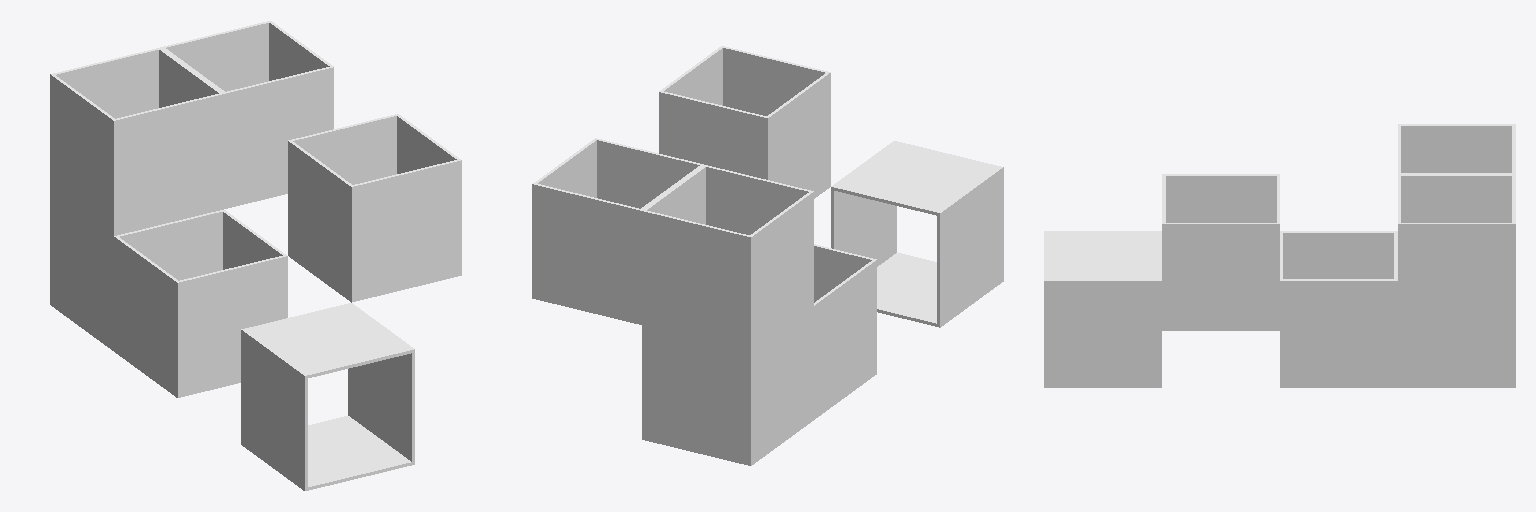
The robot description file, URDF, robot "eight_hollow_cubes":
<?xml version="1.0" encoding="utf-8"?>
<!-- This URDF was automatically created by SolidWorks to URDF Exporter! Originally created by [author] ([email redacted])
     Commit Version: 1.5.1-0-g916b5db  Build Version: 1.5.7152.31018
     For more information, please see http://wiki.ros.org/sw_urdf_exporter -->
<robot
  name="eight_hollow_cubes">
  <link
    name="cube1">
    <inertial>
      <origin
        xyz="0 0 0"
        rpy="0 0 0" />
      <mass
        value="0.1" />
      <inertia
        ixx="6.023E-05"
        ixy="0"
        ixz="0"
        iyy="7.88E-05"
        iyz="0"
        izz="6.023E-05" />
    </inertial>
    <visual>
      <origin
        xyz="0 0 0"
        rpy="0 0 0" />
      <geometry>
        <mesh
          filename="package://eight_hollow_cubes/meshes/cube1.STL" />
      </geometry>
      <material
        name="">
        <color
          rgba="1 1 1 1" />
      </material>
    </visual>
    <collision>
      <origin
        xyz="0 0 0"
        rpy="0 0 0" />
      <geometry>
        <mesh
          filename="package://eight_hollow_cubes/meshes/cube1.STL" />
      </geometry>
    </collision>
  </link>

  <link
    name="cube2">
    <inertial>
      <origin
        xyz="0 0 0"
        rpy="0 0 0" />
      <mass
        value="0.1" />
      <inertia
        ixx="6.023E-05"
        ixy="0"
        ixz="0"
        iyy="7.88E-05"
        iyz="0"
        izz="6.023E-05" />
    </inertial>
    <visual>
      <origin
        xyz="0 0 0"
        rpy="0 0 0" />
      <geometry>
        <mesh
          filename="package://eight_hollow_cubes/meshes/cube2.STL" />
      </geometry>
      <material
        name="">
        <color
          rgba="1 1 1 1" />
      </material>
    </visual>
    <collision>
      <origin
        xyz="0 0 0"
        rpy="0 0 0" />
      <geometry>
        <mesh
          filename="package://eight_hollow_cubes/meshes/cube2.STL" />
      </geometry>
    </collision>
  </link>

  <joint
    name="joint1"
    type="revolute">
    <origin
      xyz="0.025 0.025 0.025"
      rpy="1.5708 0 0" />
    <parent
      link="cube1" />
    <child
      link="cube2" />
    <axis
      xyz="0 0 1" />
    <limit
      lower="-3.1416"
      upper="0"
      effort="0"
      velocity="0" />
  </joint>

  <link
    name="cube3">
    <inertial>
      <origin
        xyz="-0.025 -0.025 -0.025"
        rpy="0 0 0" />
      <mass
        value="0.1" />
      <inertia
        ixx="6.023E-05"
        ixy="0"
        ixz="0"
        iyy="7.88E-05"
        iyz="0"
        izz="6.023E-05" />
    </inertial>
    <visual>
      <origin
        xyz="0 0 0"
        rpy="0 0 0" />
      <geometry>
        <mesh
          filename="package://eight_hollow_cubes/meshes/cube3.STL" />
      </geometry>
      <material
        name="">
        <color
          rgba="1 1 1 1" />
      </material>
    </visual>
    <collision>
      <origin
        xyz="0 0 0"
        rpy="0 0 0" />
      <geometry>
        <mesh
          filename="package://eight_hollow_cubes/meshes/cube3.STL" />
      </geometry>
    </collision>
  </link>

  <joint
    name="joint2"
    type="revolute">
    <origin
      xyz="0.05 0 0"
      rpy="0 0 0" />
    <parent
      link="cube2" />
    <child
      link="cube3" />
    <axis
      xyz="0 1 0" />
    <limit
      lower="0"
      upper="3.1416"
      effort="0"
      velocity="0" />
  </joint>

  <link
    name="cube4">
    <inertial>
      <origin
        xyz="-0.025 -0.025 -0.025"
        rpy="0 0 0" />
      <mass
        value="0.1" />
      <inertia
        ixx="6.023E-05"
        ixy="0"
        ixz="0"
        iyy="7.88E-05"
        iyz="0"
        izz="6.023E-05" />
    </inertial>
    <visual>
      <origin
        xyz="0 0 0"
        rpy="0 0 0" />
      <geometry>
        <mesh
          filename="package://eight_hollow_cubes/meshes/cube4.STL" />
      </geometry>
      <material
        name="">
        <color
          rgba="1 1 1 1" />
      </material>
    </visual>
    <collision>
      <origin
        xyz="0 0 0"
        rpy="0 0 0" />
      <geometry>
        <mesh
          filename="package://eight_hollow_cubes/meshes/cube4.STL" />
      </geometry>
    </collision>
  </link>

  <joint
    name="joint3"
    type="revolute">
    <origin
      xyz="0 0 -0.0500000000000001"
      rpy="0 0 0" />
    <parent
      link="cube3" />
    <child
      link="cube4" />
    <axis
      xyz="1 0 0" />
    <limit
      lower="0"
      upper="3.1416"
      effort="0"
      velocity="0" />
  </joint>

  <link
    name="cube5">
    <inertial>
      <origin
        xyz="-0.025 -0.025 -0.025"
        rpy="0 0 0" />
      <mass
        value="0.1" />
      <inertia
        ixx="6.023E-05"
        ixy="0"
        ixz="0"
        iyy="7.88E-05"
        iyz="0"
        izz="6.023E-05" />
    </inertial>
    <visual>
      <origin
        xyz="0 0 0"
        rpy="0 0 0" />
      <geometry>
        <mesh
          filename="package://eight_hollow_cubes/meshes/cube5.STL" />
      </geometry>
      <material
        name="">
        <color
          rgba="1 1 1 1" />
      </material>
    </visual>
    <collision>
      <origin
        xyz="0 0 0"
        rpy="0 0 0" />
      <geometry>
        <mesh
          filename="package://eight_hollow_cubes/meshes/cube5.STL" />
      </geometry>
    </collision>
  </link>

  <joint
    name="joint4"
    type="revolute">
    <origin
      xyz="0 0 -0.05"
      rpy="0 0 0" />
    <parent
      link="cube4" />
    <child
      link="cube5" />
    <axis
      xyz="0 1 0" />
    <limit
      lower="0"
      upper="3.1416"
      effort="0"
      velocity="0" />
  </joint>

  <link
    name="cube6">
    <inertial>
      <origin
        xyz="-0.025 -0.025 -0.025"
        rpy="0 0 0" />
      <mass
        value="0.1" />
      <inertia
        ixx="6.023E-05"
        ixy="0"
        ixz="0"
        iyy="7.88E-05"
        iyz="0"
        izz="6.023E-05" />
    </inertial>
    <visual>
      <origin
        xyz="0 0 0"
        rpy="0 0 0" />
      <geometry>
        <mesh
          filename="package://eight_hollow_cubes/meshes/cube6.STL" />
      </geometry>
      <material
        name="">
        <color
          rgba="1 1 1 1" />
      </material>
    </visual>
    <collision>
      <origin
        xyz="0 0 0"
        rpy="0 0 0" />
      <geometry>
        <mesh
          filename="package://eight_hollow_cubes/meshes/cube6.STL" />
      </geometry>
    </collision>
  </link>

  <joint
    name="joint5"
    type="revolute">
    <origin
      xyz="-0.05 0 0"
      rpy="0 0 0" />
    <parent
      link="cube5" />
    <child
      link="cube6" />
    <axis
      xyz="0 0 1" />
    <limit
      lower="-3.1416"
      upper="0"
      effort="0"
      velocity="0" />
  </joint>

  <link
    name="cube7">
    <inertial>
      <origin
        xyz="0.025 -0.025 0.025"
        rpy="0 0 0" />
      <mass
        value="0.1" />
      <inertia
        ixx="6.023E-05"
        ixy="0"
        ixz="0"
        iyy="7.88E-05"
        iyz="0"
        izz="6.023E-05" />
    </inertial>
    <visual>
      <origin
        xyz="0 0 0"
        rpy="0 0 0" />
      <geometry>
        <mesh
          filename="package://eight_hollow_cubes/meshes/cube7.STL" />
      </geometry>
      <material
        name="">
        <color
          rgba="1 1 1 1" />
      </material>
    </visual>
    <collision>
      <origin
        xyz="0 0 0"
        rpy="0 0 0" />
      <geometry>
        <mesh
          filename="package://eight_hollow_cubes/meshes/cube7.STL" />
      </geometry>
    </collision>
  </link>

  <joint
    name="joint6"
    type="revolute">
    <origin
      xyz="-0.05 0 0"
      rpy="0 0 0" />
    <parent
      link="cube6" />
    <child
      link="cube7" />
    <axis
      xyz="0 1 0" />
    <limit
      lower="-3.1416"
      upper="0"
      effort="0"
      velocity="0" />
  </joint>

  <link
    name="cube8">
    <inertial>
      <origin
        xyz="0.025 -0.025 0.025"
        rpy="0 0 0" />
      <mass
        value="0.1" />
      <inertia
        ixx="6.023E-05"
        ixy="0"
        ixz="0"
        iyy="7.88E-05"
        iyz="0"
        izz="6.023E-05" />
    </inertial>
    <visual>
      <origin
        xyz="0 0 0"
        rpy="0 0 0" />
      <geometry>
        <mesh
          filename="package://eight_hollow_cubes/meshes/cube8.STL" />
      </geometry>
      <material
        name="">
        <color
          rgba="1 1 1 1" />
      </material>
    </visual>
    <collision>
      <origin
        xyz="0 0 0"
        rpy="0 0 0" />
      <geometry>
        <mesh
          filename="package://eight_hollow_cubes/meshes/cube8.STL" />
      </geometry>
    </collision>
  </link>

  <joint
    name="joint7"
    type="revolute">
    <origin
      xyz="0 0 0.05"
      rpy="0 0 0" />
    <parent
      link="cube7" />
    <child
      link="cube8" />
    <axis
      xyz="1 0 0" />
    <limit
      lower="0"
      upper="3.1416"
      effort="0"
      velocity="0" />
  </joint>
</robot>

--- Render facts (derived) ---
3 views of the same robot in one strip: view 1: azimuth 30°, elevation 25°; view 2: azimuth 150°, elevation 25°; view 3: azimuth 270°, elevation 25° (orthographic).
Robot: eight_hollow_cubes — 8 links, 7 joints (7 revolute); root link cube1; default pose: every joint at zero.
Links seen in each view (by area): view 1: cube2, cube6, cube1, cube8, cube5, cube7; view 2: cube6, cube1, cube7, cube5, cube2, cube8; view 3: cube1, cube2, cube5, cube8, cube7, cube6.
Boxes of the visible links, x1,y1,x2,y2 form: cube2: [288, 114, 461, 302]; cube6: [50, 47, 223, 235]; cube1: [241, 303, 414, 490]; cube8: [114, 210, 287, 397]; cube5: [161, 21, 333, 208]; cube7: [50, 190, 113, 350]; cube6: [642, 165, 813, 351]; cube1: [831, 141, 1003, 327]; cube7: [642, 306, 813, 465]; cube5: [532, 138, 703, 324]; cube2: [659, 46, 830, 198]; cube8: [814, 244, 876, 419]; cube1: [1044, 231, 1161, 387]; cube2: [1162, 174, 1279, 330]; cube5: [1398, 174, 1515, 330]; cube8: [1280, 231, 1397, 387]; cube7: [1398, 331, 1515, 387]; cube6: [1398, 124, 1515, 173].
Bounding box of the posed robot: 0.1 × 0.2 × 0.1 m (x, y, z).
6 mesh visuals loaded from 8 distinct referenced files (6 binary STL); not drawn: 2 (reference not matched to a file when rendering).